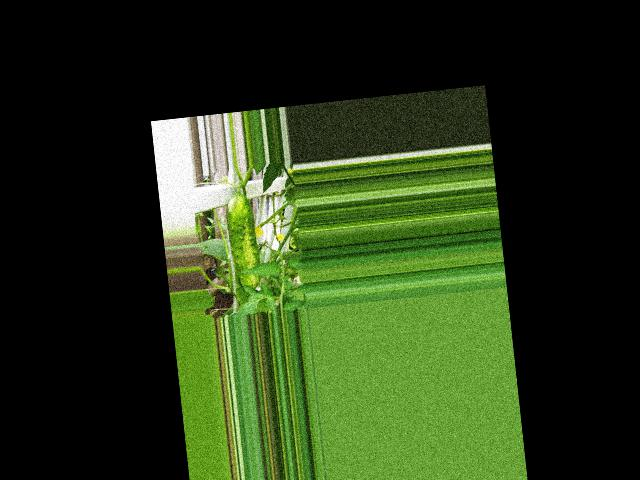cucumber: (224, 192, 261, 289)
